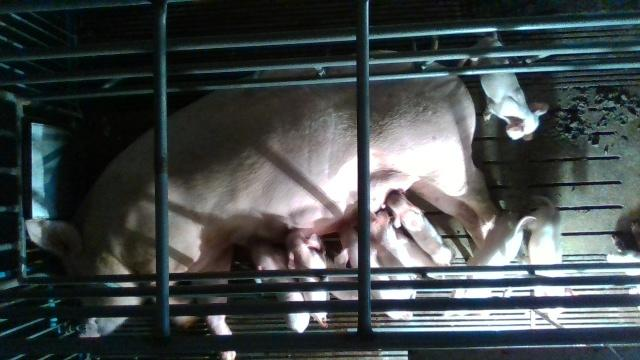piglet: (340, 225, 412, 320), (451, 214, 522, 298), (251, 242, 310, 333), (385, 187, 452, 266), (371, 211, 444, 278), (483, 72, 548, 142), (529, 204, 562, 320), (285, 236, 332, 271)
sow-sleep-lactate: (26, 49, 498, 344)
